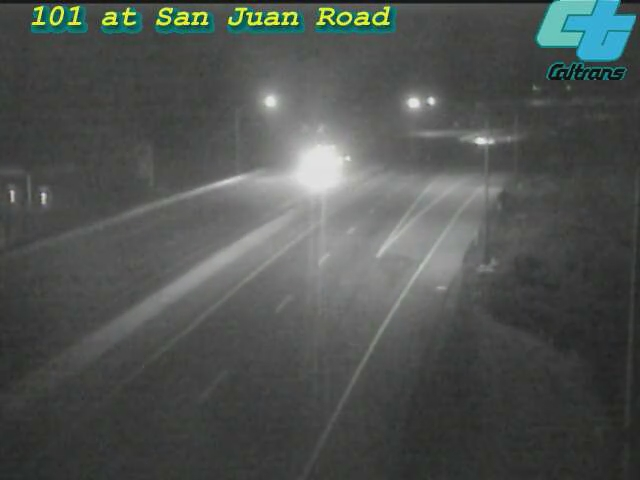vehicle: (277, 127, 357, 207), (454, 117, 504, 167)
